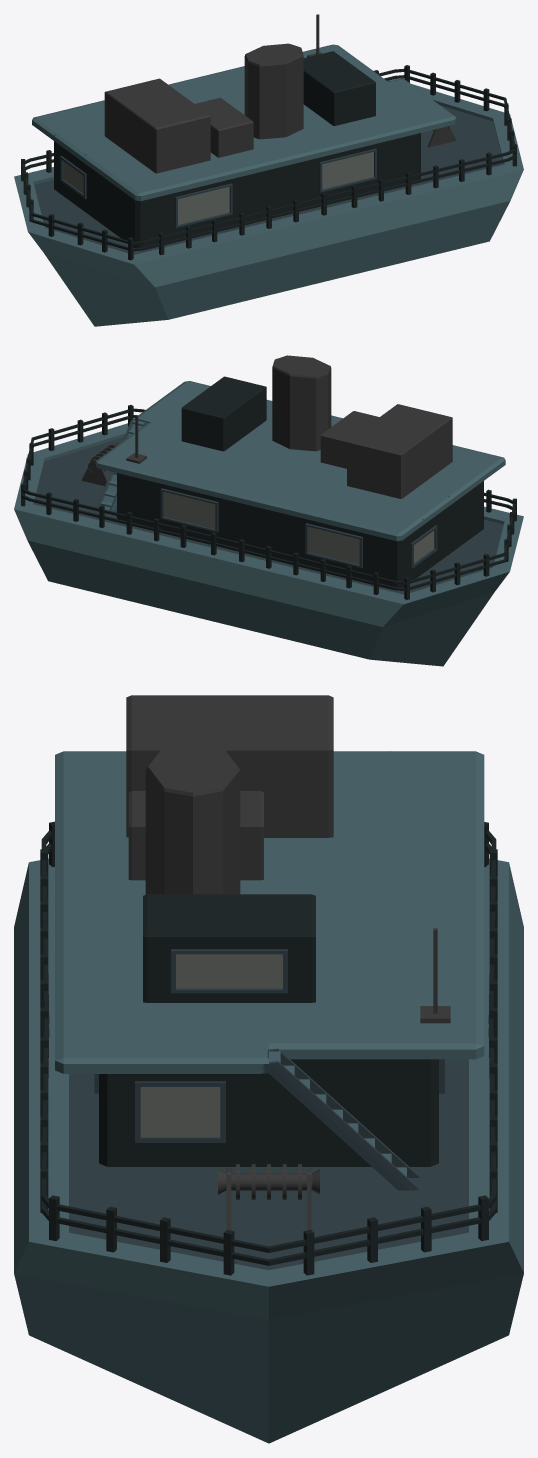
The model's file is BlueShip.fbx.
3 renders of one model, top to bottom at view 1: azimuth 30°, elevation 25°; view 2: azimuth 150°, elevation 25°; view 3: azimuth 270°, elevation 25°, orthographic. The views are drawn at different scales.
Parts seen in each view (by area): view 1: BlueShip; view 2: BlueShip; view 3: BlueShip.
Boxes of the visible parts, x1,y1,x2,y2 form: BlueShip: (14, 14, 523, 326); BlueShip: (14, 355, 523, 666); BlueShip: (14, 695, 523, 1443).
Bounding box in the file's own units: 3613 × 1771 × 1658.
